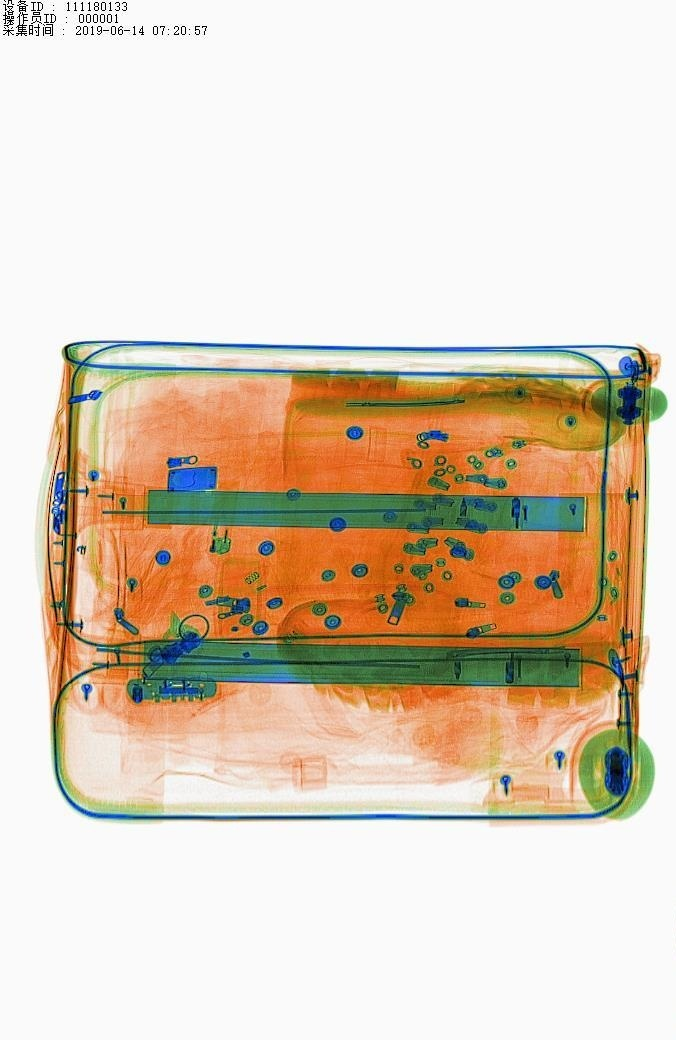NonmetallicFire: (202, 478, 242, 570)
